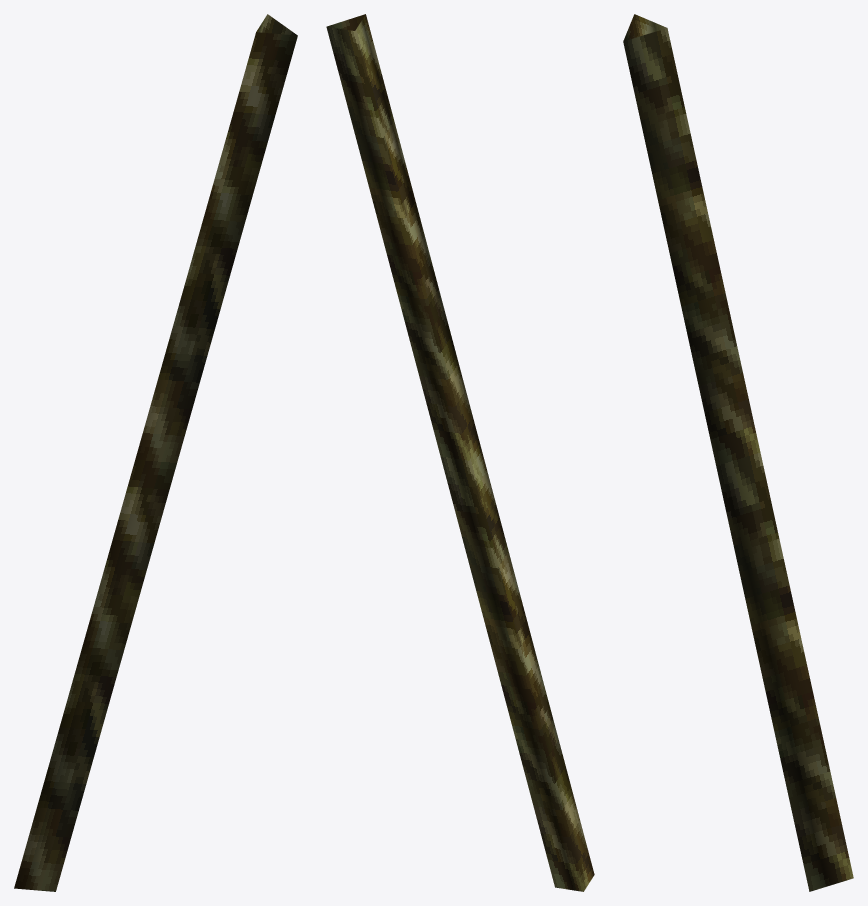
The model's file is OVERHILL_A_01_ROPE_LINE_11.fbx.
3 renders of one model, left to right at view 1: azimuth 30°, elevation 25°; view 2: azimuth 210°, elevation 25°; view 3: azimuth 270°, elevation 25°, orthographic. The views are drawn at different scales.
Visible parts, largest first — view 1: OVERHILL_A_01_ROPE_LINE_11; view 2: OVERHILL_A_01_ROPE_LINE_11; view 3: OVERHILL_A_01_ROPE_LINE_11.
Part boxes in pixels (x1=…): OVERHILL_A_01_ROPE_LINE_11: x1=14, y1=14, x2=297, y2=891; OVERHILL_A_01_ROPE_LINE_11: x1=326, y1=14, x2=594, y2=891; OVERHILL_A_01_ROPE_LINE_11: x1=623, y1=14, x2=853, y2=891.
Size of the model in its own units: 2332 by 10462 by 2332.
1 material, 1 textured.
